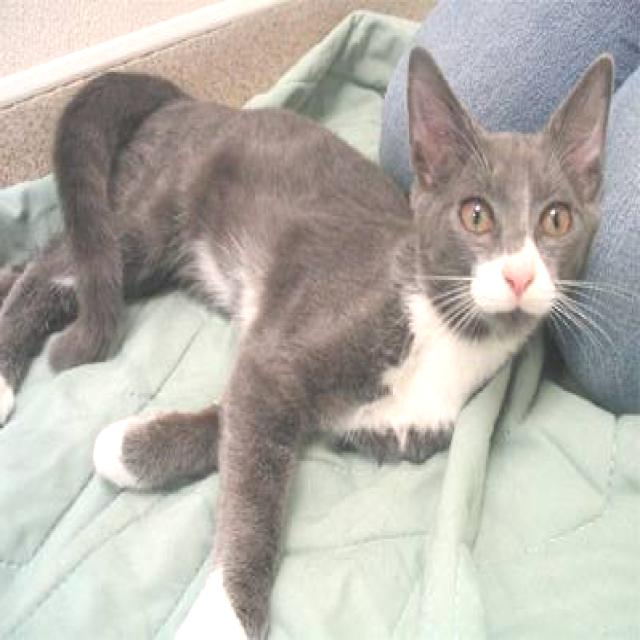Kucing: (3, 22, 632, 635)
